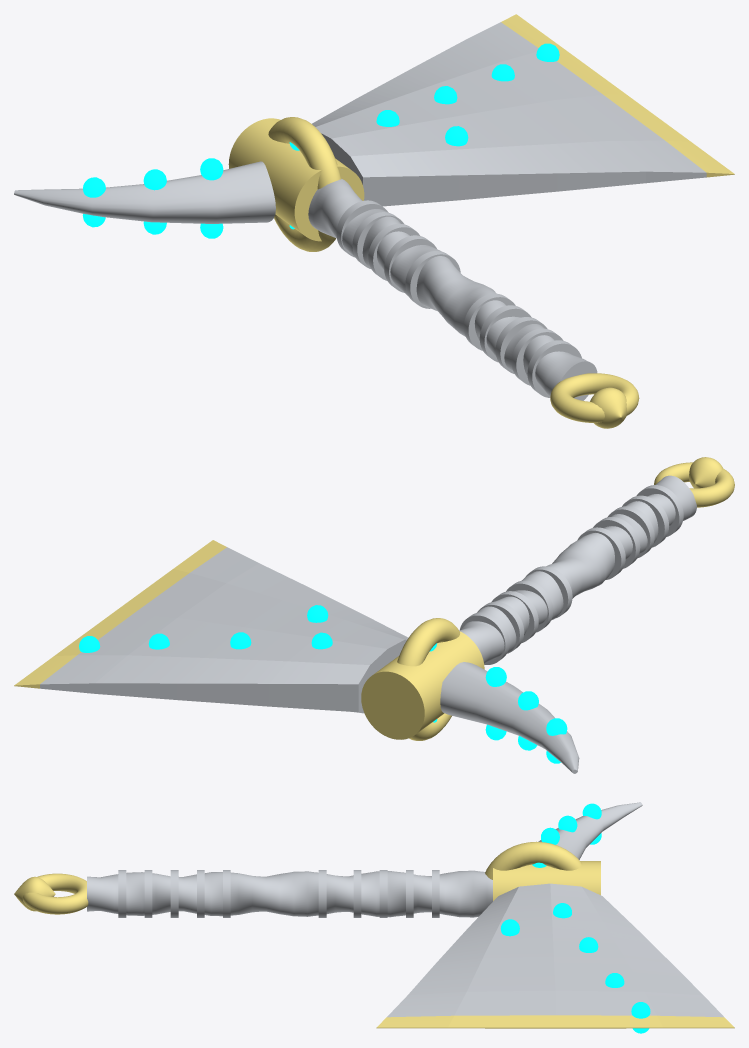
File: art_valkyrie_waraxe.fbx
3 renders of one model, top to bottom at view 1: azimuth 30°, elevation 25°; view 2: azimuth 150°, elevation 25°; view 3: azimuth 270°, elevation 25°, orthographic. The views are drawn at different scales.
Parts seen in each view (by area): view 1: Blade, Handle, BackSpike, HeadCollar, BladeEdge, RuneInlay, Pommel; view 2: Blade, Handle, HeadCollar, BackSpike, BladeEdge, RuneInlay, Pommel; view 3: Blade, Handle, BladeEdge, HeadCollar, Pommel, RuneInlay, BackSpike.
Boxes of the visible parts, x1,y1,x2,y2 form: Blade: [312, 22, 706, 206]; Handle: [308, 178, 597, 400]; BackSpike: [14, 161, 275, 223]; HeadCollar: [228, 117, 364, 251]; BladeEdge: [501, 14, 734, 177]; RuneInlay: [82, 43, 559, 238]; Pommel: [550, 373, 639, 428]; Blade: [40, 547, 408, 713]; Handle: [459, 475, 696, 664]; HeadCollar: [361, 618, 484, 740]; BackSpike: [440, 662, 579, 773]; BladeEdge: [14, 540, 226, 688]; RuneInlay: [79, 605, 567, 763]; Pommel: [654, 457, 734, 507]; Blade: [387, 883, 723, 1017]; Handle: [87, 870, 492, 917]; BladeEdge: [376, 1015, 734, 1028]; HeadCollar: [485, 841, 600, 900]; Pommel: [14, 873, 88, 914]; RuneInlay: [500, 803, 650, 1033]; BackSpike: [538, 802, 642, 859].
Bounding box in the file's own units: 305 × 65 × 414.
